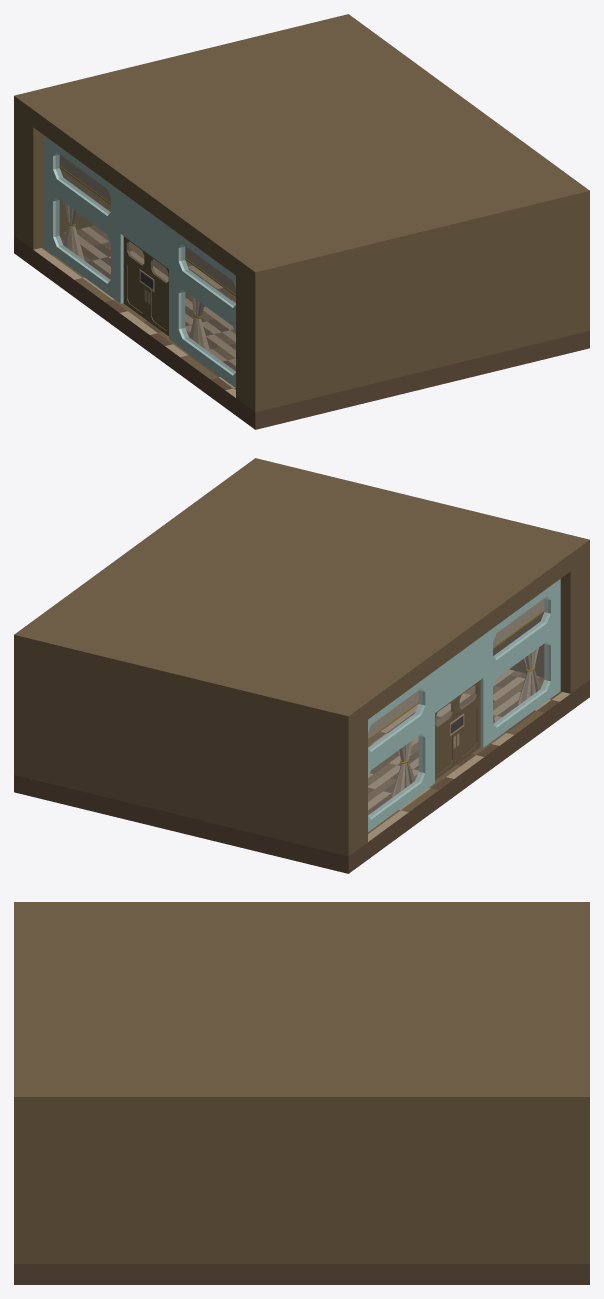
The model's file is Tienda Cerrada 2.fbx.
The picture shows the model from 3 angles, top to bottom: view 1: azimuth 30°, elevation 25°; view 2: azimuth 150°, elevation 25°; view 3: azimuth 270°, elevation 25°; orthographic projection. The views are drawn at different scales.
Visible parts, largest first — view 1: Techo_13, Pared_1x10x16, Piso_13, Fachada_13, Esquina_1x10x43, Esquina_1x10x1, Vidrio_TC_1, Vidrio_TC_2, Esquina_1x10x44, Puerta_TC_1, Puerta_TC_2, Pared2_1x10x16 (+4 smaller); view 2: Techo_13, Pared2_1x10x16, Piso_13, Fachada_13, Esquina_1x10x44, Esquina_1x10x7, Vidrio_TC_2, Vidrio_TC_1, Esquina_1x10x43, Puerta_TC_2, Puerta_TC_1, Pared_1x10x16 (+4 smaller); view 3: Techo_13, Pared_21x10x1, Piso_13, Esquina_1x10x1, Esquina_1x10x7.
Part boxes in pixels (x1,y1,x2,y2): Techo_13: [14, 14, 589, 289]; Pared_1x10x16: [289, 216, 556, 403]; Piso_13: [14, 225, 589, 429]; Fachada_13: [43, 135, 235, 387]; Esquina_1x10x43: [236, 276, 288, 412]; Esquina_1x10x1: [556, 208, 589, 338]; Vidrio_TC_1: [56, 153, 110, 281]; Vidrio_TC_2: [181, 245, 235, 373]; Esquina_1x10x44: [14, 113, 43, 249]; Puerta_TC_1: [123, 236, 147, 320]; Puerta_TC_2: [147, 254, 168, 336]; Pared2_1x10x16: [59, 168, 110, 233]; Techo_13: [14, 458, 589, 733]; Pared2_1x10x16: [47, 660, 314, 847]; Piso_13: [14, 669, 589, 873]; Fachada_13: [368, 579, 560, 831]; Esquina_1x10x44: [315, 720, 367, 856]; Esquina_1x10x7: [14, 652, 47, 782]; Vidrio_TC_2: [493, 597, 547, 725]; Vidrio_TC_1: [368, 689, 422, 817]; Esquina_1x10x43: [560, 557, 589, 693]; Puerta_TC_2: [456, 680, 480, 764]; Puerta_TC_1: [435, 698, 456, 780]; Pared_1x10x16: [493, 612, 544, 677]; Techo_13: [14, 902, 589, 1117]; Pared_21x10x1: [60, 1117, 543, 1263]; Piso_13: [14, 1264, 589, 1284]; Esquina_1x10x1: [14, 1117, 59, 1263]; Esquina_1x10x7: [544, 1117, 589, 1263].
Bounding box in the file's own units: 20 × 9 × 25.
